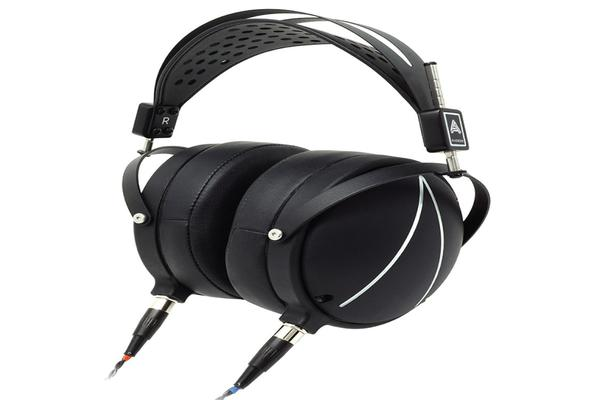headphone: (65, 1, 511, 400)
